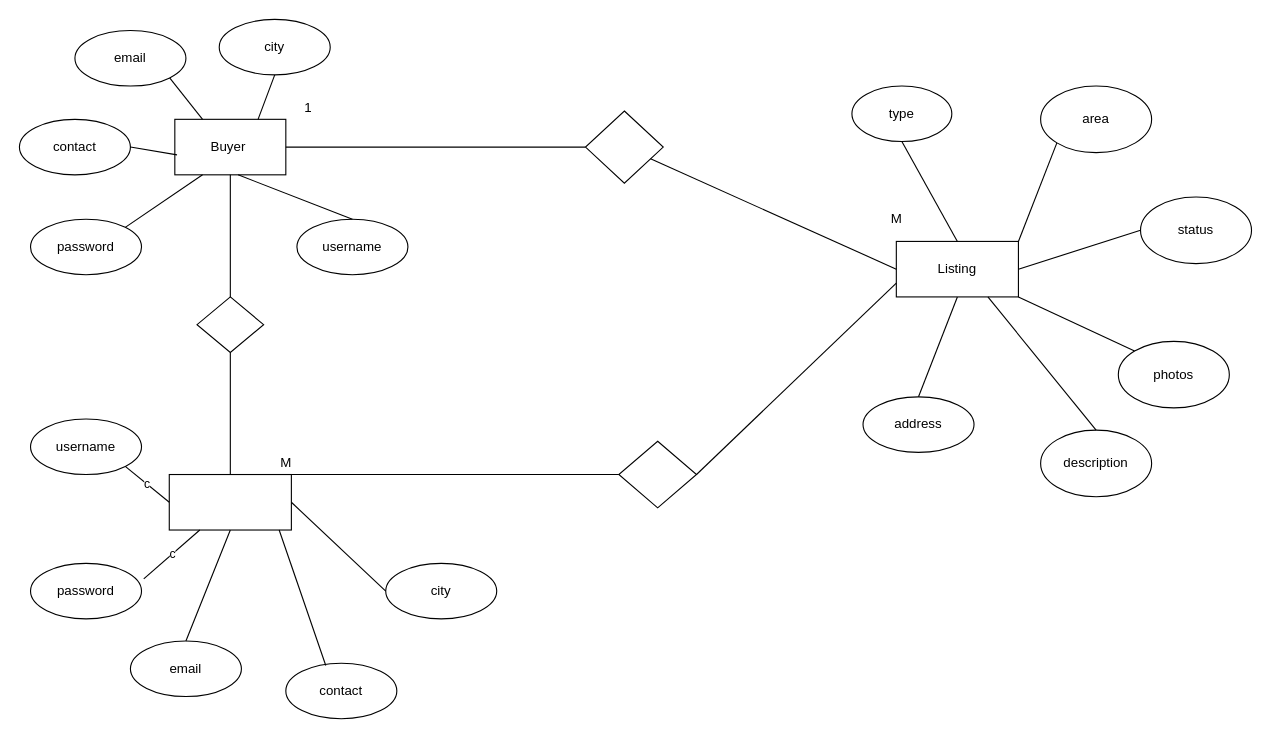
The diagram is 1271 pixels wide and 738 high, and some of its shapes have lost their labels. Each missing label, with the centre of its shape:
"contacts" belongs at (x=230, y=324).
"post" belongs at (x=657, y=474).
"Seller" belongs at (x=229, y=501).
"view" belongs at (x=623, y=146).
